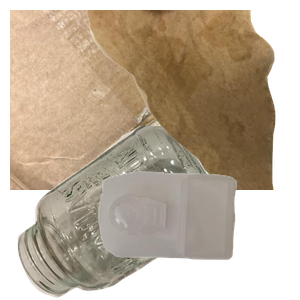cardboard: (10, 10, 250, 190)
glass: (15, 126, 229, 300)
plastic: (96, 169, 300, 300)
trash: (84, 10, 300, 190)
